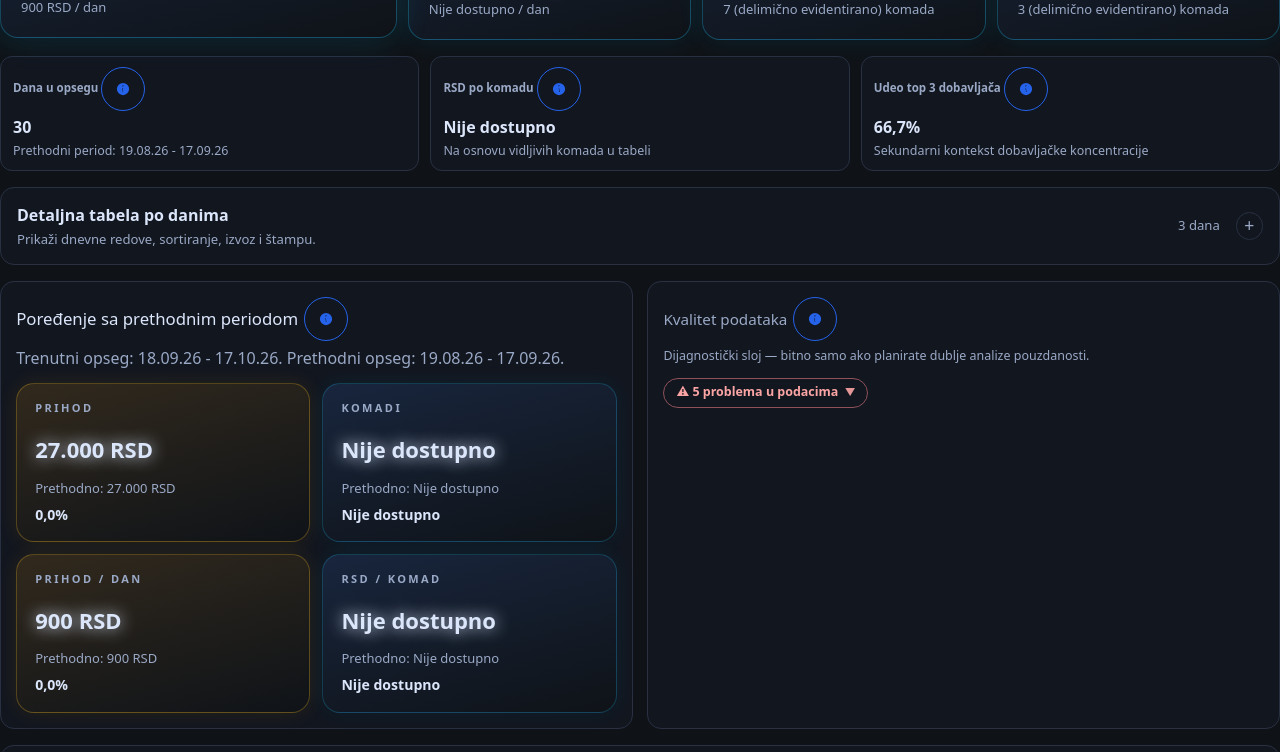
Test: DailySalesStatsPage premium controls › keeps incomplete coverage visible when unavailable, partial and complete days coexist
(page scrolled)
Step 1. Click the button titled "Prikaži detalje kvaliteta" → (766, 393), box [663, 378, 868, 408]
(page scrolled)
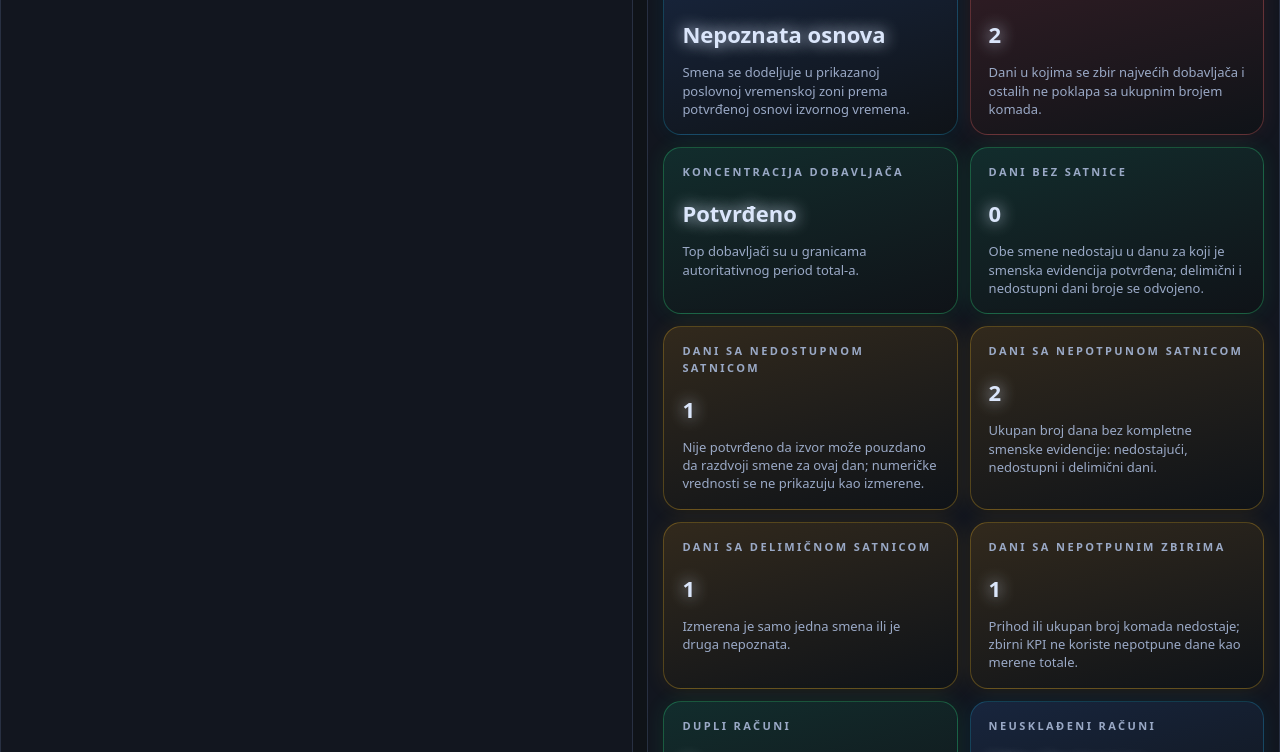
expect the 1st text "1" is shown: met, box [682, 394, 695, 424]
expect the text "1" below "Dani sa delimičnom satnicom" is shown: met, box [682, 572, 695, 602]
expect the 2nd text "2" is shown: met, box [989, 377, 1001, 407]
